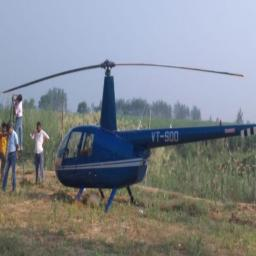helicopter: (18, 58, 231, 209)
